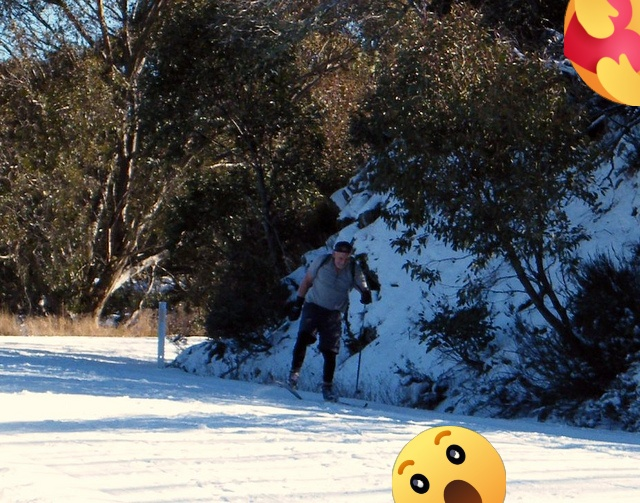care: (564, 0, 640, 106)
wow: (392, 426, 506, 503)
